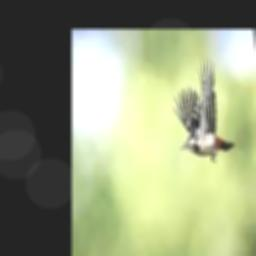Woodpecker: (173, 54, 234, 162)
